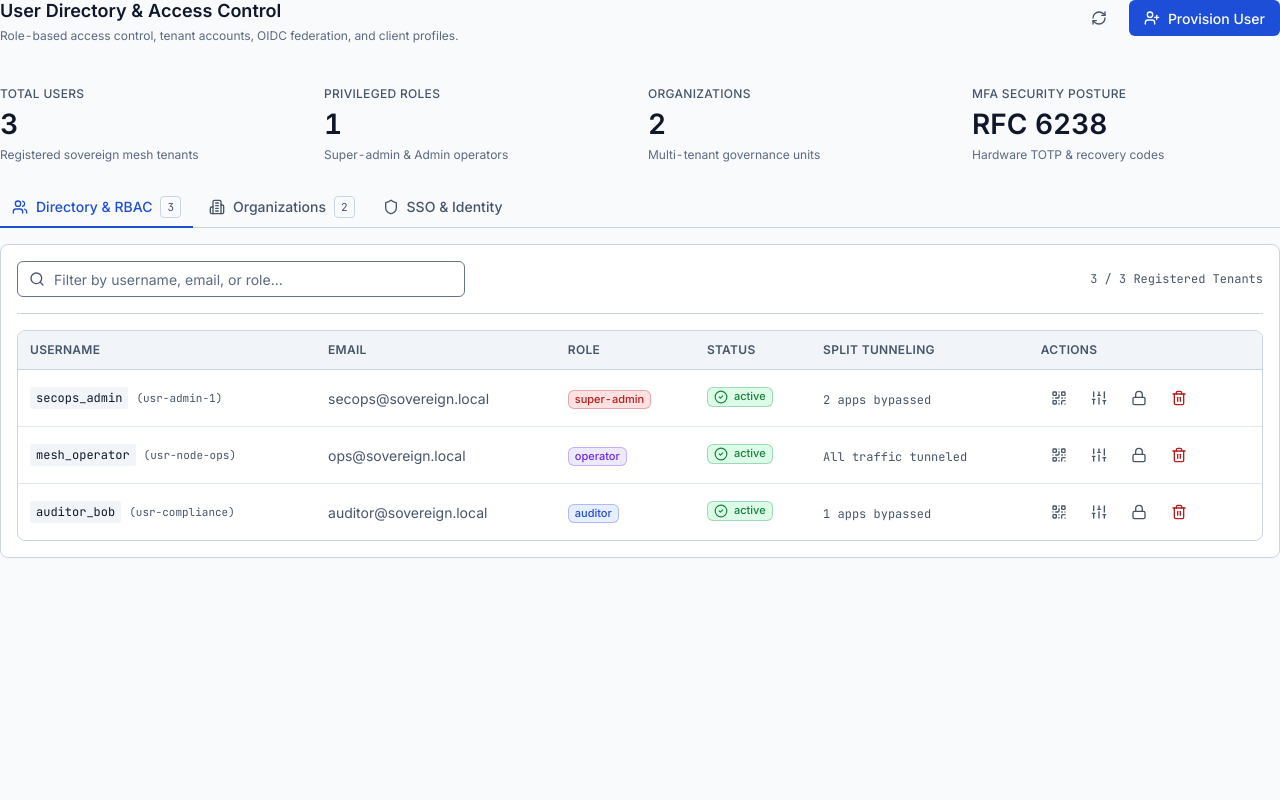
WP-410: UsersRoute (Role-Based Access Control, Organizations & Client Profiles) › 6. Deletes a user account
Expected: the text "auditor_bob" is shown, x1=30 y1=501 x2=121 y2=523
// Click delete button
Click the button named "Delete User" in the row of "auditor_bob": (1179, 512) x1=1161 y1=494 x2=1197 y2=530
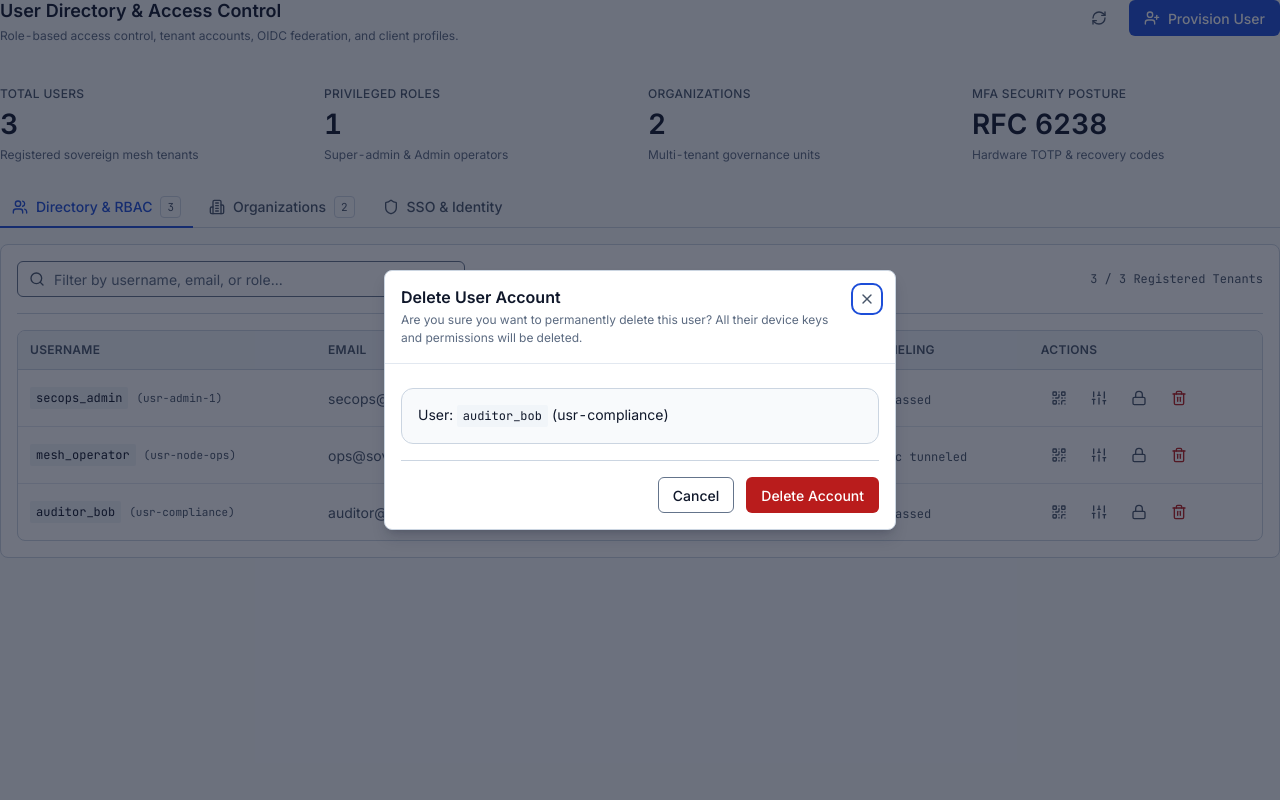
Expected: the dialog is shown, x1=384 y1=270 x2=896 y2=530
Expected: the heading "Delete User Account" is shown, x1=401 y1=287 x2=561 y2=307
// Confirm delete
Click the button "Delete Account": (813, 495) x1=746 y1=477 x2=879 y2=513
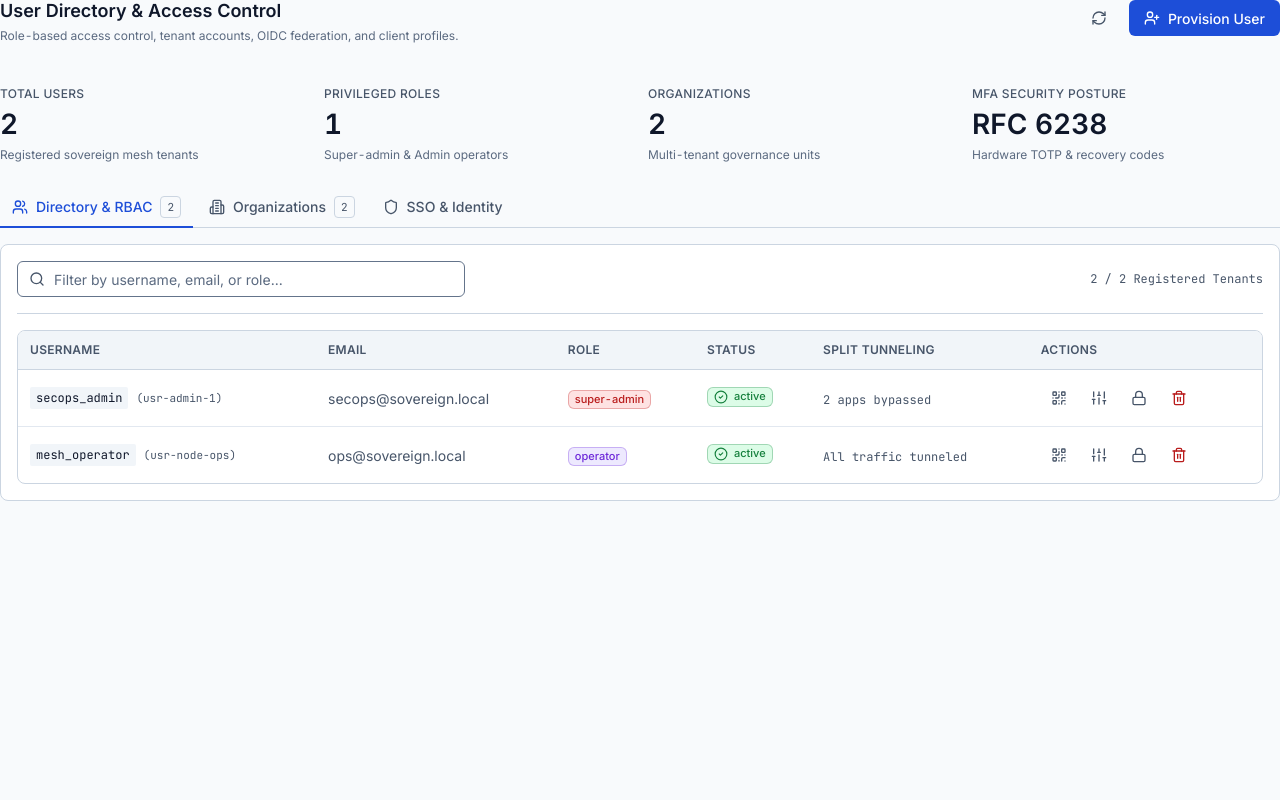
Expected: the text "auditor_bob" is gone
